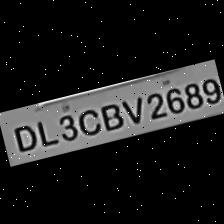2: (138, 87, 168, 121)
3: (51, 109, 79, 143)
6: (160, 83, 184, 115)
8: (178, 78, 204, 111)
9: (196, 72, 222, 106)
B: (94, 96, 125, 132)
C: (72, 104, 101, 138)
D: (5, 119, 38, 154)
L: (32, 114, 57, 148)
V: (119, 92, 145, 126)
